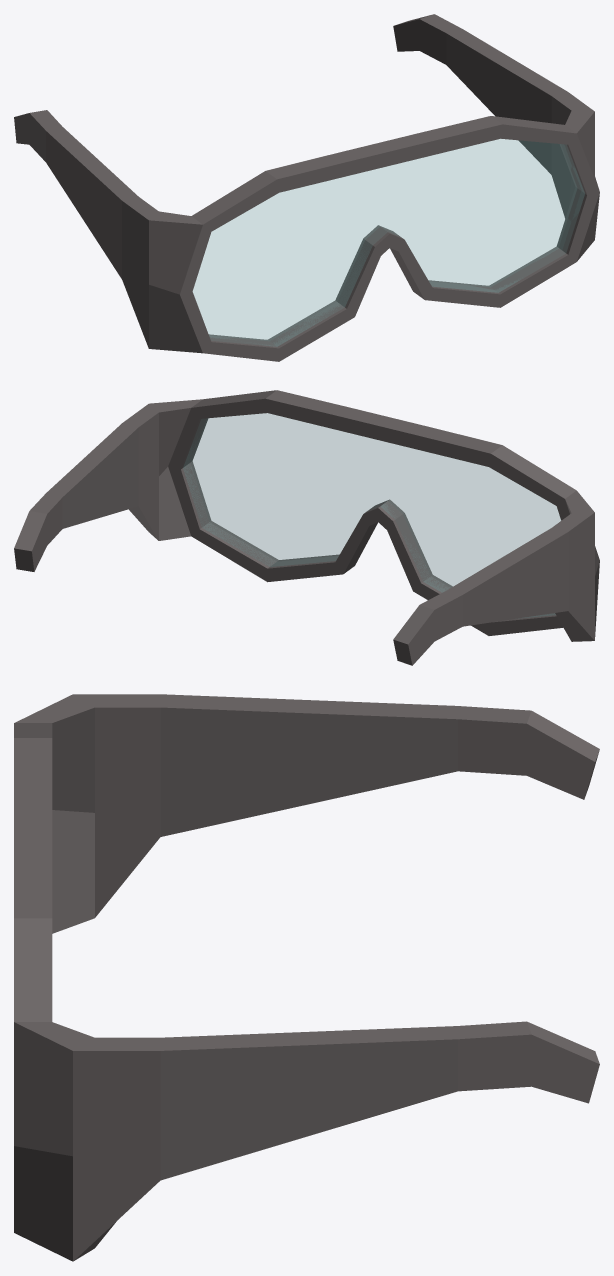
Rendered from chem_ProtectGlasses.fbx.
3 views of the same model, one above another, from view 1: azimuth 30°, elevation 25°; view 2: azimuth 150°, elevation 25°; view 3: azimuth 270°, elevation 25° (orthographic). The views are drawn at different scales.
Visible parts, largest first — view 1: ProtectGlasses; view 2: ProtectGlasses; view 3: ProtectGlasses.
Boxes of the visible parts, left/top/right/bottom form: ProtectGlasses: left=14, top=14, right=599, bottom=361; ProtectGlasses: left=14, top=390, right=599, bottom=665; ProtectGlasses: left=14, top=694, right=599, bottom=1261.
Size of the model in its own units: 0.4003 by 0.1572 by 0.2779.
